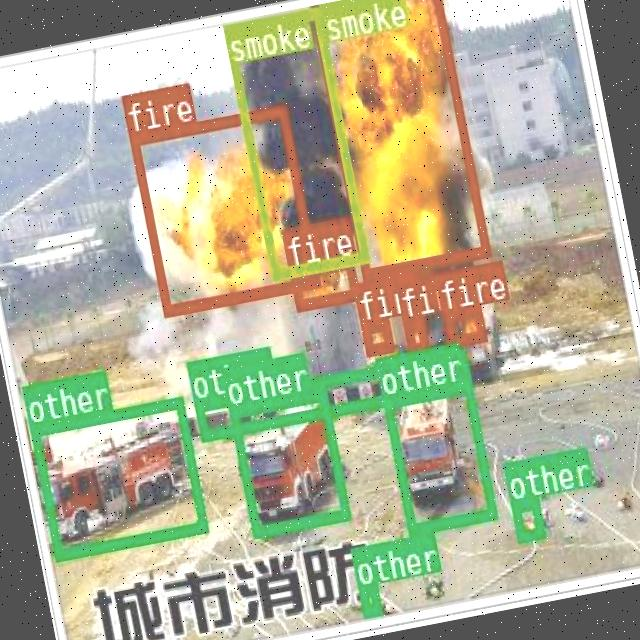fire: (309, 0, 490, 279), (128, 104, 320, 315), (288, 256, 359, 308), (442, 304, 486, 346), (360, 316, 392, 354), (401, 314, 428, 354)
smoke: (220, 6, 368, 280), (317, 0, 373, 29)
